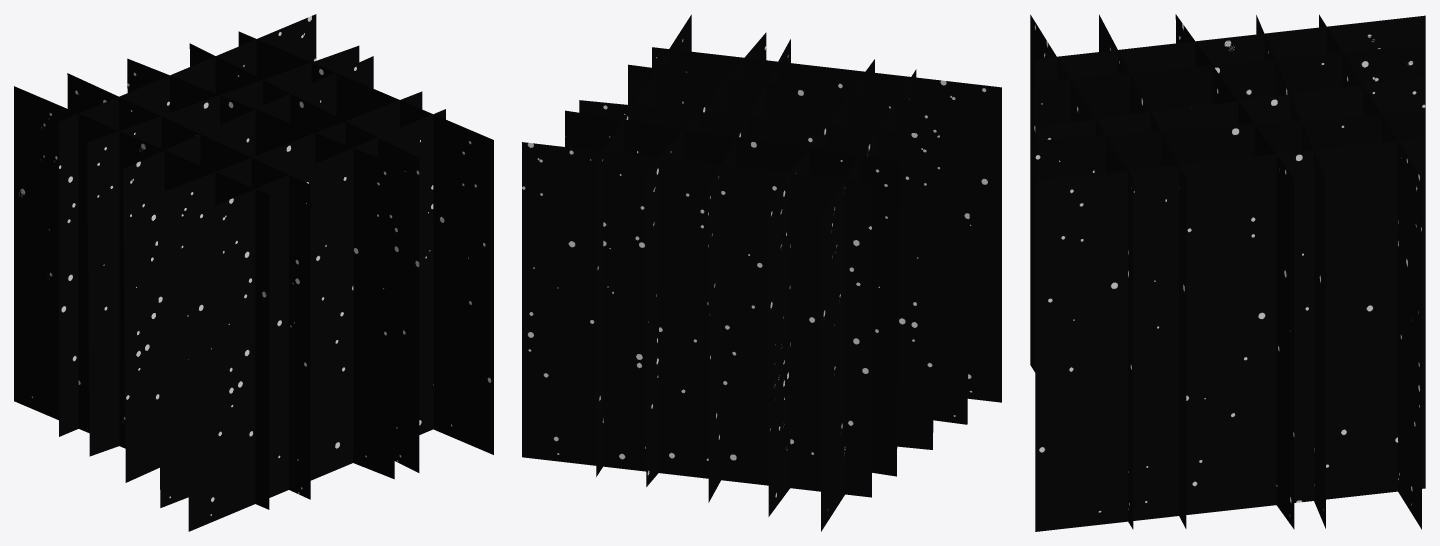
Rendered from snow.dae.
3 views of the same model, side by side, from view 1: azimuth 30°, elevation 25°; view 2: azimuth 150°, elevation 25°; view 3: azimuth 270°, elevation 25° (orthographic). The views are drawn at different scales.
Visible parts, largest first — view 1: SketchUp (×10); view 2: SketchUp (×10); view 3: SketchUp (×10).
Boxes of the visible parts, x1,y1,x2,y2 form: SketchUp (×10): [14, 14, 493, 531]; SketchUp (×10): [522, 14, 1001, 531]; SketchUp (×10): [1030, 14, 1425, 531].
Size of the model in its own units: 80.18 by 80.18 by 78.48.
Materials: 2 (2 with a texture image).
